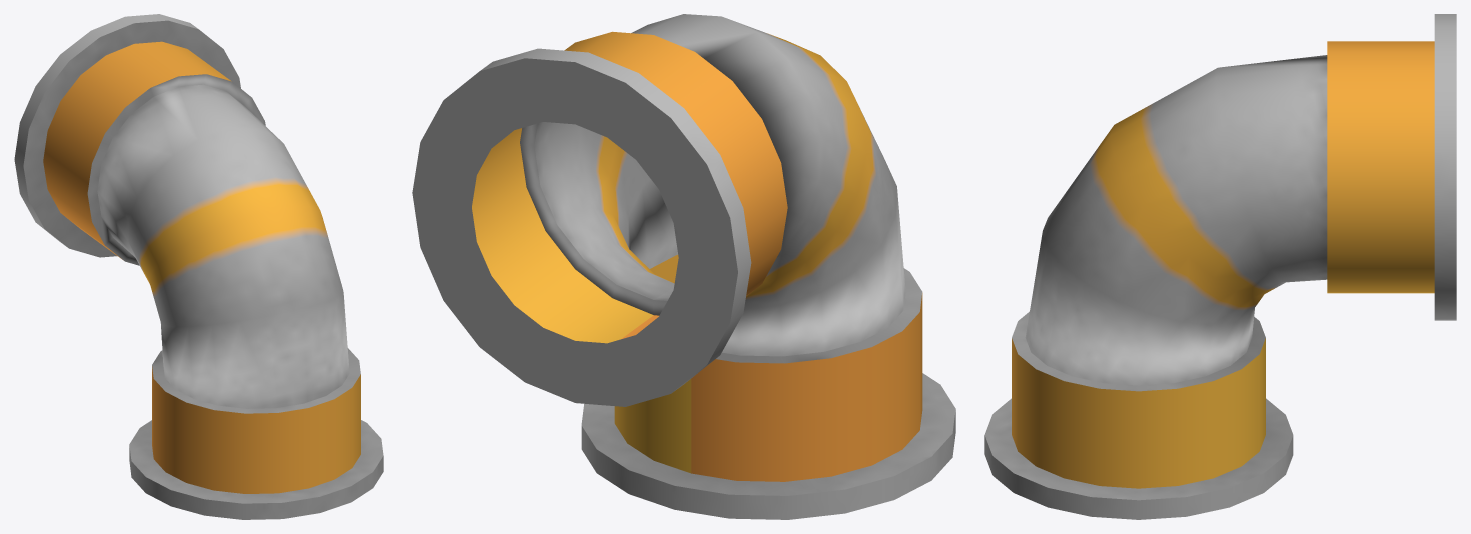
3 renders of one model, left to right at view 1: azimuth 30°, elevation 25°; view 2: azimuth 150°, elevation 25°; view 3: azimuth 270°, elevation 25°, orthographic. The views are drawn at different scales.
Parts seen in each view (by area): view 1: Tube_Curve; view 2: Tube_Curve; view 3: Tube_Curve.
Part boxes in pixels (x1,y1,x2,y2): Tube_Curve: [14, 14, 383, 519]; Tube_Curve: [412, 14, 955, 519]; Tube_Curve: [984, 14, 1456, 519].
Bounding box in the file's own units: 6.82 × 10.41 × 10.42.
